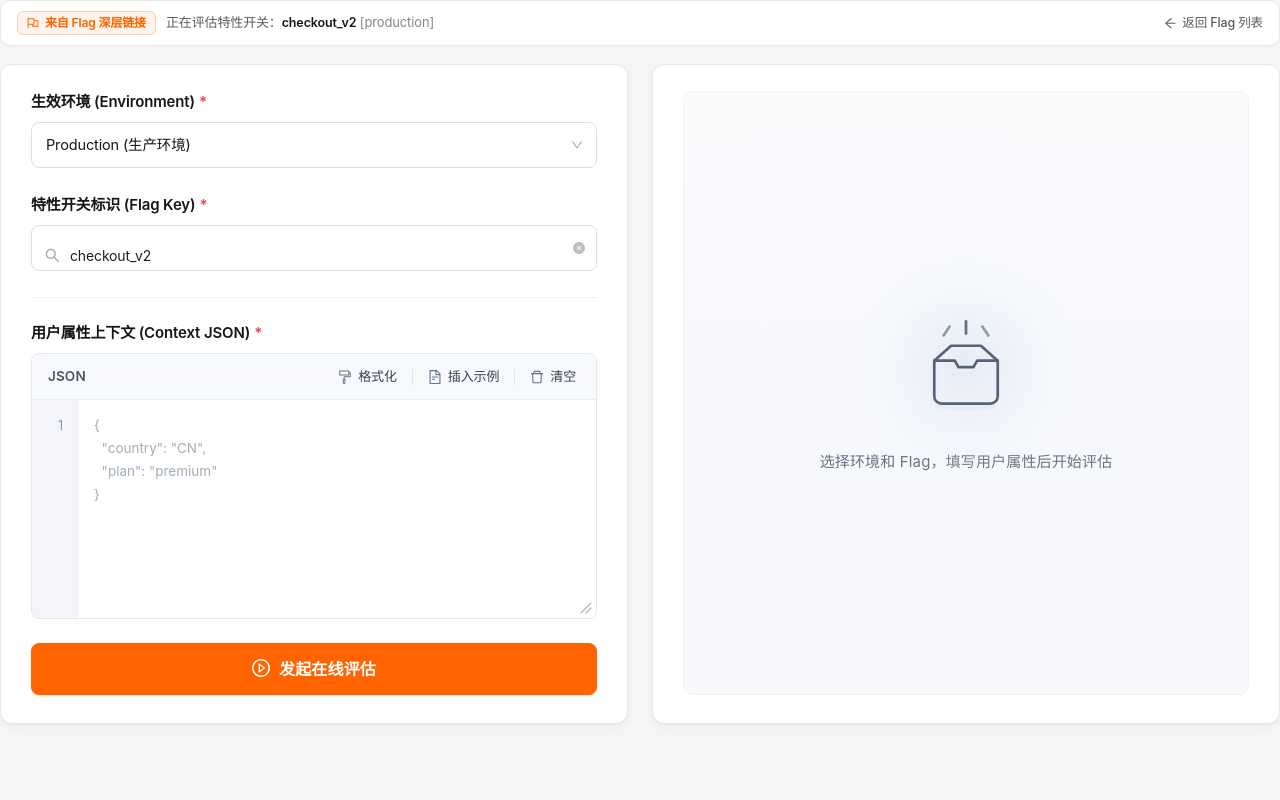
EvaluationConsolePage › 回填的字段保持可编辑且横幅跟随当前输入
Replace the text in the dropdown labelled "特性开关标识 (Flag Key) *" with "other_flag" at (316, 255), box [70, 233, 562, 277]
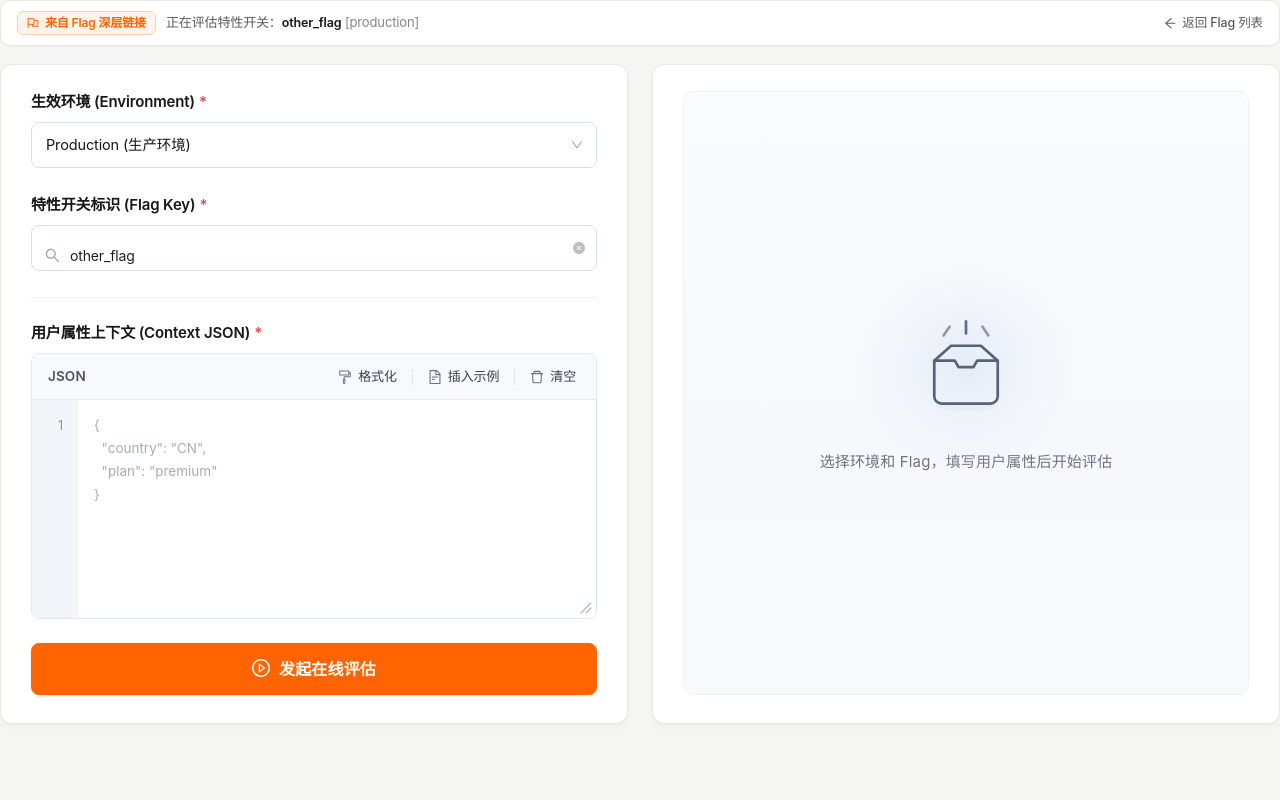
Press the mouse on the dropdown labelled "生效环境 (Environment) *" at (119, 102), box [31, 92, 207, 111]
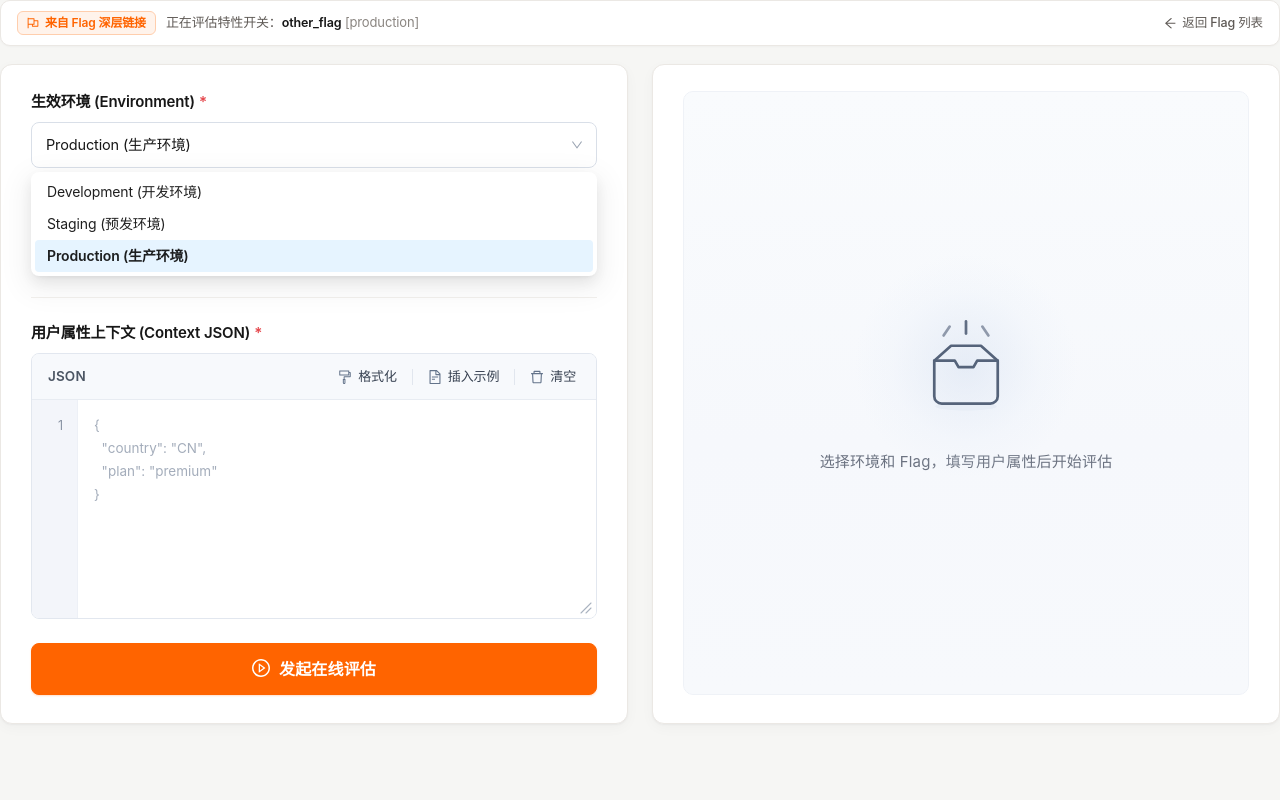
Click the text "Staging (预发环境)" at (106, 224), box [47, 215, 166, 232]
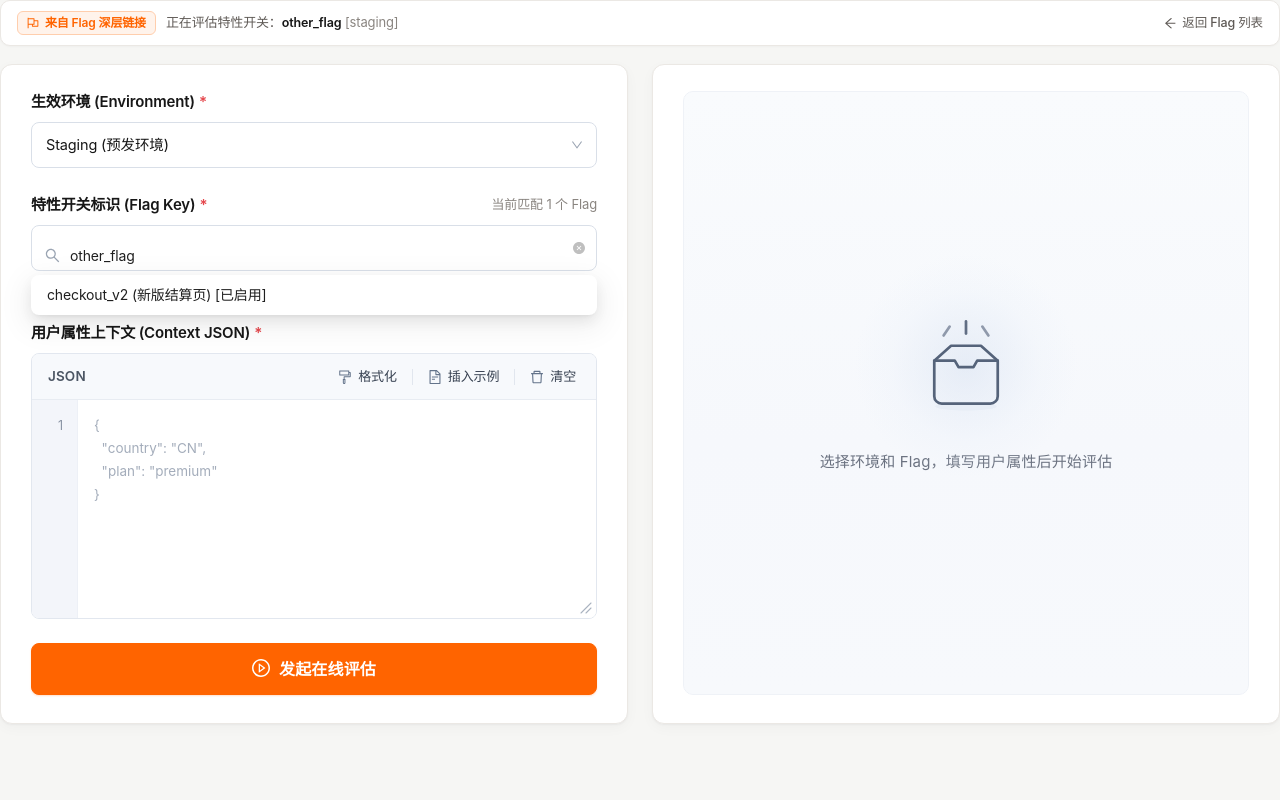
Result: the element with test id "context-banner" shows "正在评估特性开关：other_flag [staging]" at [0, 0, 1279, 46]
